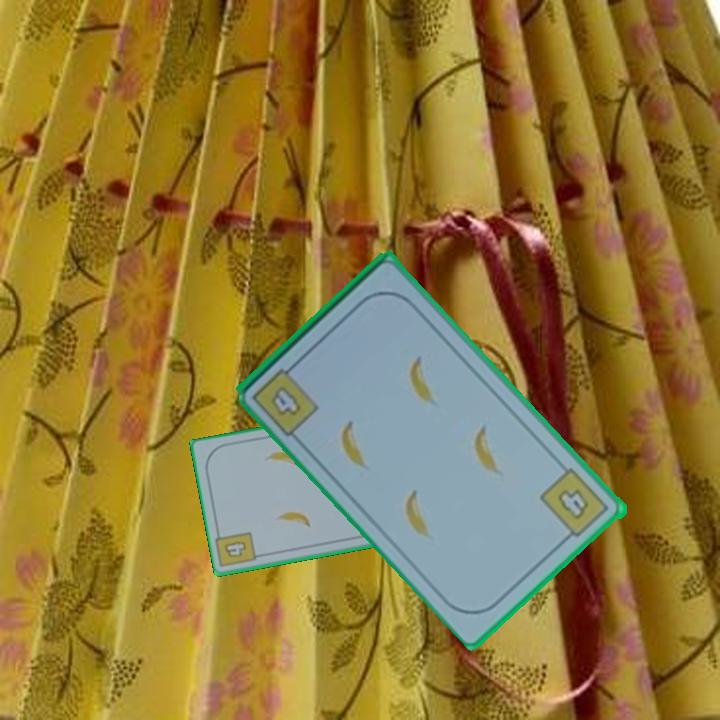4b: (537, 464, 613, 545), (248, 357, 323, 439), (220, 538, 249, 561)
